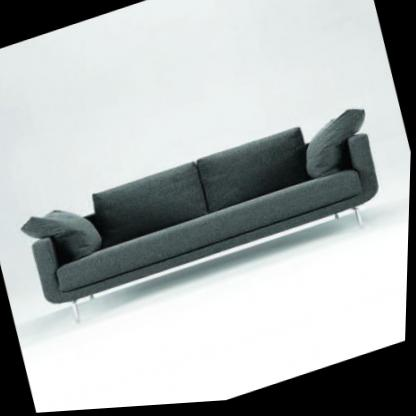Sofa: (18, 101, 399, 330)
